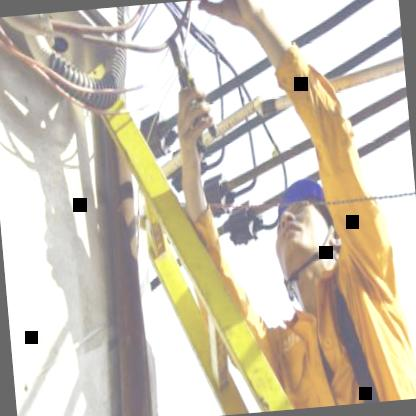helmet: (260, 162, 347, 321)
